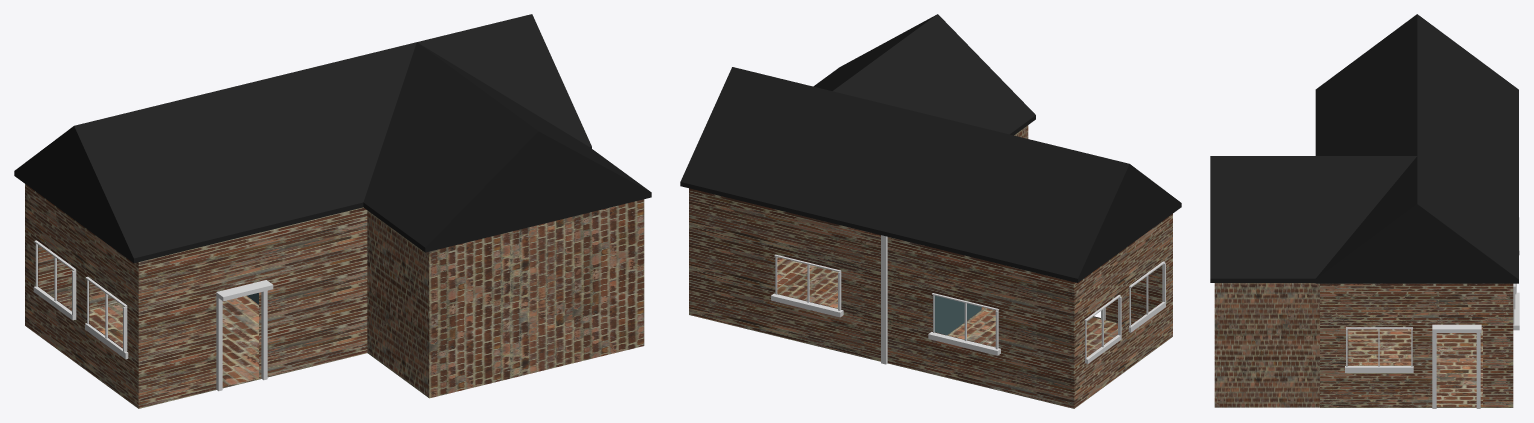
File: bung2.glb
3 renders of one model, left to right at view 1: azimuth 30°, elevation 25°; view 2: azimuth 150°, elevation 25°; view 3: azimuth 270°, elevation 25°, orthographic. The views are drawn at different scales.
Visible parts, largest first — view 1: Cube.017; view 2: Cube.017; view 3: Cube.017.
Boxes of the visible parts, x1=… form: Cube.017: x1=14, y1=14, x2=651, y2=408; Cube.017: x1=680, y1=14, x2=1181, y2=408; Cube.017: x1=1210, y1=14, x2=1519, y2=408.
Bounding box in the file's own units: 35.9 × 18 × 24.4.
Materials: 4 (1 with a texture image).
